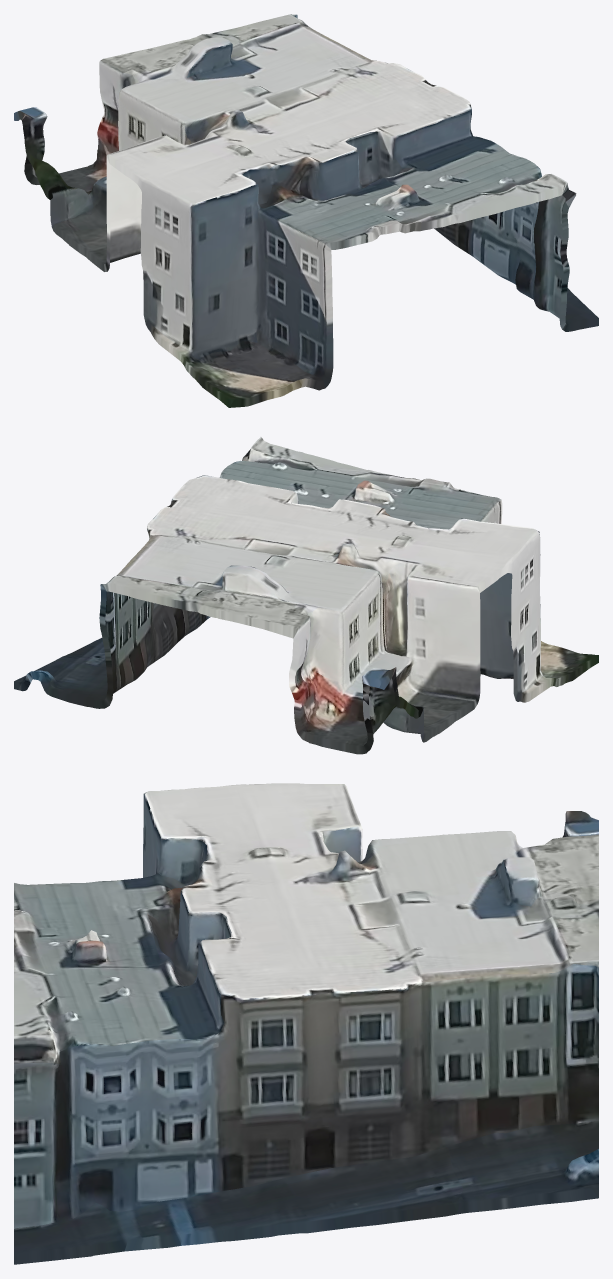
The model's file is z20-167726-405195-h0-yup-uvflip-v3-world.glb.
3 views of the same model, one above another, from view 1: azimuth 30°, elevation 25°; view 2: azimuth 150°, elevation 25°; view 3: azimuth 270°, elevation 25° (orthographic). The views are drawn at different scales.
Bounding box in the file's own units: 30.16 × 15.28 × 30.32.
1 material, 1 textured.
